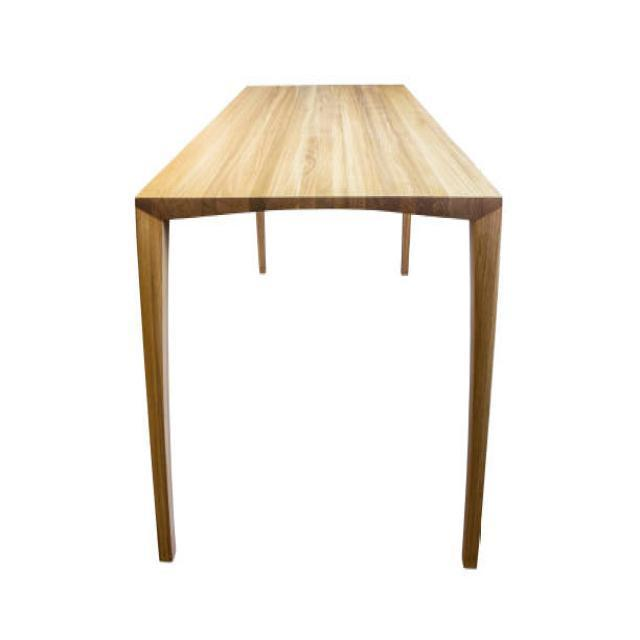table: (133, 81, 503, 568)
